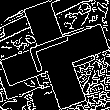L_E: (26, 32, 84, 78)
